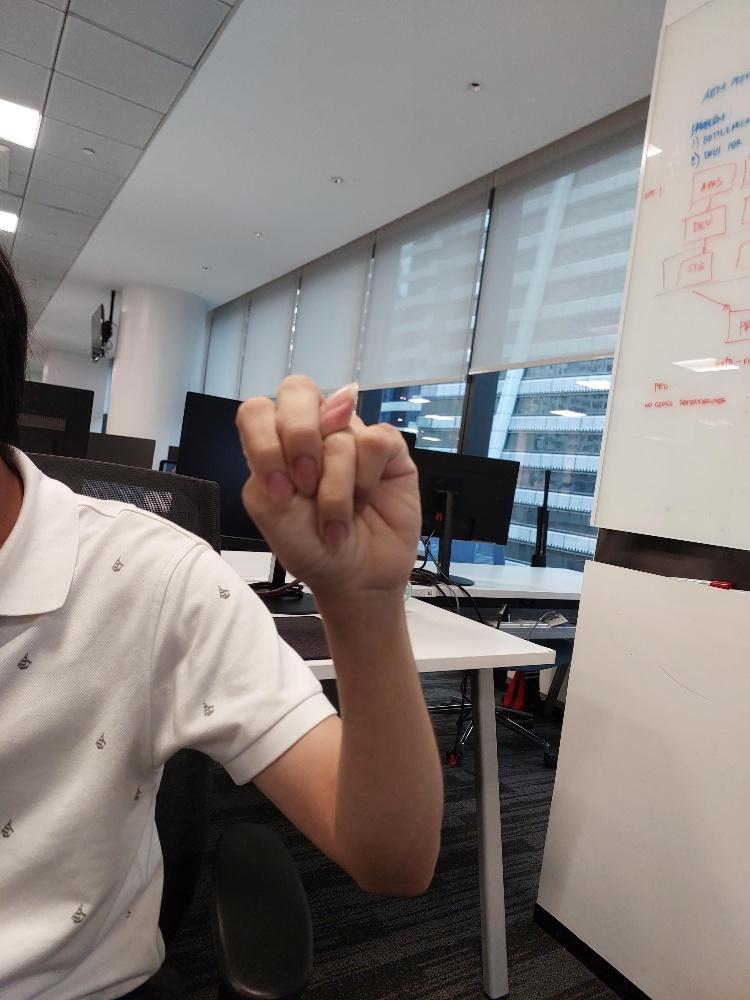n: (234, 366, 424, 601)
